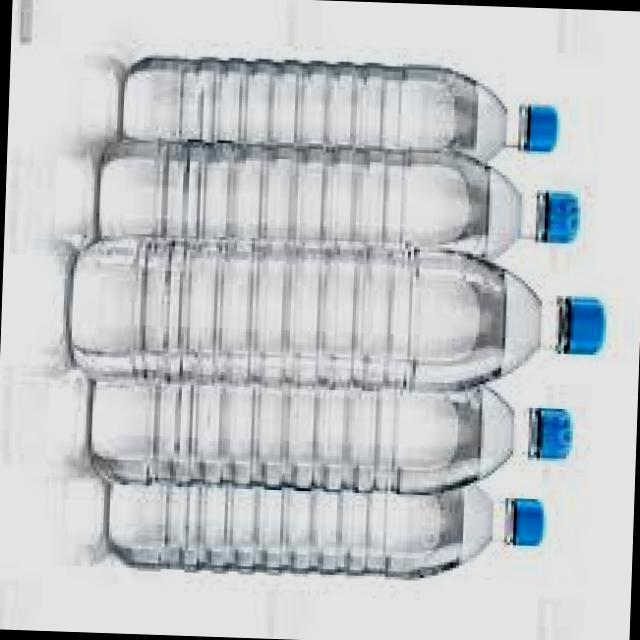bottle: (68, 237, 605, 391), (98, 140, 579, 258), (89, 382, 572, 495), (123, 58, 556, 160), (109, 485, 542, 577)
